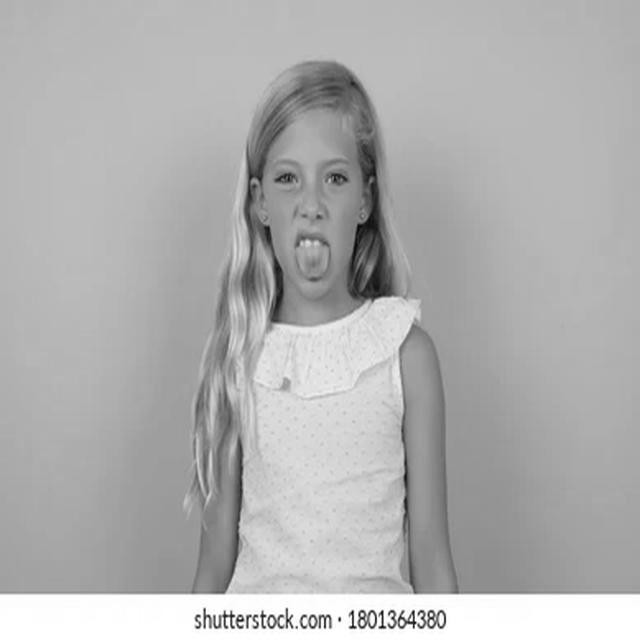Disgust: (262, 109, 364, 301)
